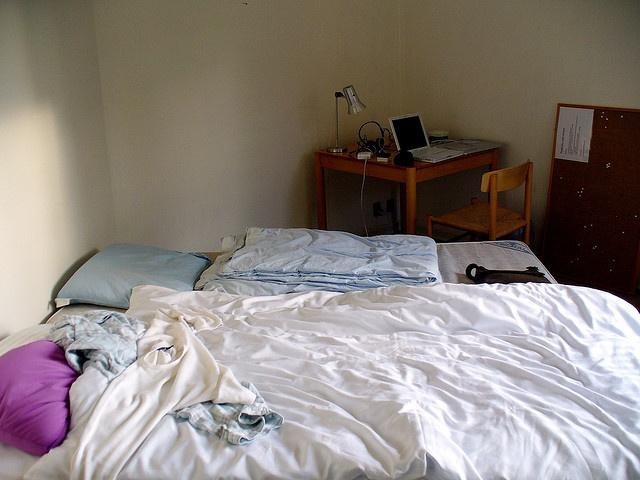Kursi: (425, 159, 532, 243)
Meja: (314, 133, 499, 230)
